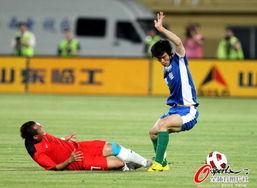bending: (147, 11, 200, 172)
down: (16, 120, 156, 175)
